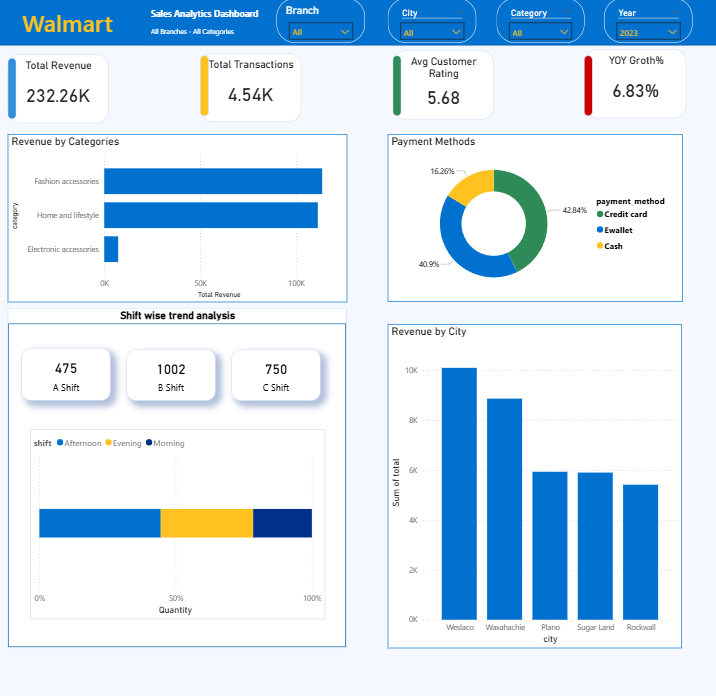

The page's visual inventory and layout, read from the dashboard file:
{"tool":"powerbi","page":{"name":"Page 1","canvas":[1150,1120],"ordinal":0},"visuals":[{"type":"shape","box":[0,0,1280.3,76.8],"z":0},{"type":"textbox","box":[32.9,9.6,238.8,57.6],"z":1000},{"type":"textbox","box":[237.4,9.6,229.2,54.9],"z":2000},{"type":"textbox","box":[237.4,37,238.8,35.7],"z":3000},{"type":"slicer","title":"Branch","fields":{"Values":["Query1.branch"]},"box":[443.8,0,141.9,71.7],"z":4000},{"type":"slicer","fields":{"Values":["Query1.category"]},"box":[795.8,0,140.8,71.8],"z":5000},{"type":"slicer","fields":{"Values":["Query1.city"]},"box":[621.5,0,141.9,71.7],"z":6000},{"type":"slicer","fields":{"Values":["Calendar.Date.Variation.Date Hierarchy.Year"]},"box":[968.8,0,141.9,71.7],"z":7000},{"type":"card","title":"Total Revenue","fields":{"Values":["Calendar.Total Revenue"]},"box":[13.8,89.6,161.2,110.3],"z":8000},{"type":"shape","box":[13.8,95.1,12.4,97.8],"z":9000},{"type":"card","title":"YOY Groth%","fields":{"Values":["Calendar.YOY Growth%"]},"box":[937.1,82.7,161.2,110.3],"z":10000},{"type":"card","title":"Avg Customer Rating","fields":{"Values":["Avg(Query1.rating)"]},"box":[629.3,85,161.2,110.3],"z":11000},{"type":"card","title":"Total Transactions","fields":{"Values":["Sum(Query1.quantity)"]},"box":[321.6,87.3,161.2,110.3],"z":12000},{"type":"shape","box":[631,91.5,8.5,97.2],"z":13000},{"type":"shape","box":[321.1,91.5,12.7,97.2],"z":14000},{"type":"clusteredBarChart","title":"Revenue by Categories","fields":{"Category":["Query1.category"],"Y":["Calendar.Total Revenue"]},"box":[13.8,217.7,543,268.7],"z":15000},{"type":"donutChart","title":"Payment Methods","fields":{"Category":["Query1.payment_method"],"Y":["Calendar.Total Revenue"]},"box":[621.1,218.3,471.8,267.6],"z":16000},{"type":"shape","box":[936.6,93,8.5,97.2],"z":17000},{"type":"shape","title":"Shift wise trend analysis","box":[14,496,542,544],"z":18000},{"type":"card","fields":{"Values":["Calendar.A Shift"]},"box":[36,560,142,84],"z":19000},{"type":"card","fields":{"Values":["Calendar.C Shift"]},"box":[372,562,142,82],"z":20000},{"type":"card","fields":{"Values":["Calendar.B Shift"]},"box":[204,562,142,82],"z":21000},{"type":"hundredPercentStackedBarChart","fields":{"Series":["Query1.shift"],"Y":["Sum(Query1.quantity)"]},"box":[50,690,472,304],"z":22000},{"type":"lineClusteredColumnComboChart","title":"Revenue by City","fields":{"Category":["Query1.city"],"Y":["Calendar.Total Revenue"]},"box":[622,522,470,518],"z":23000}]}

Visuals, with their boxes in screenshot pixels (x1, y1, x2, y2), scaled from the page's 1150x1120 canvas onto the 716x696 screenshot:
shape: {"x1": 0, "y1": 0, "x2": 715, "y2": 48}
textbox: {"x1": 20, "y1": 6, "x2": 169, "y2": 42}
textbox: {"x1": 148, "y1": 6, "x2": 291, "y2": 40}
textbox: {"x1": 148, "y1": 23, "x2": 296, "y2": 45}
"Branch" slicer: {"x1": 276, "y1": 0, "x2": 365, "y2": 45}
slicer - Query1.category: {"x1": 495, "y1": 0, "x2": 583, "y2": 45}
slicer - Query1.city: {"x1": 387, "y1": 0, "x2": 475, "y2": 45}
slicer - Calendar.Date.Variation.Date Hierarchy.Year: {"x1": 603, "y1": 0, "x2": 692, "y2": 45}
"Total Revenue" card: {"x1": 9, "y1": 56, "x2": 109, "y2": 124}
shape: {"x1": 9, "y1": 59, "x2": 16, "y2": 120}
"YOY Groth%" card: {"x1": 583, "y1": 51, "x2": 684, "y2": 120}
"Avg Customer Rating" card: {"x1": 392, "y1": 53, "x2": 492, "y2": 121}
"Total Transactions" card: {"x1": 200, "y1": 54, "x2": 301, "y2": 123}
shape: {"x1": 393, "y1": 57, "x2": 398, "y2": 117}
shape: {"x1": 200, "y1": 57, "x2": 208, "y2": 117}
"Revenue by Categories" clusteredBarChart: {"x1": 9, "y1": 135, "x2": 347, "y2": 302}
"Payment Methods" donutChart: {"x1": 387, "y1": 136, "x2": 680, "y2": 302}
shape: {"x1": 583, "y1": 58, "x2": 588, "y2": 118}
"Shift wise trend analysis" shape: {"x1": 9, "y1": 308, "x2": 346, "y2": 646}
card - Calendar.A Shift: {"x1": 22, "y1": 348, "x2": 111, "y2": 400}
card - Calendar.C Shift: {"x1": 232, "y1": 349, "x2": 320, "y2": 400}
card - Calendar.B Shift: {"x1": 127, "y1": 349, "x2": 215, "y2": 400}
hundredPercentStackedBarChart - Query1.shift x Sum(Query1.quantity): {"x1": 31, "y1": 429, "x2": 325, "y2": 618}
"Revenue by City" lineClusteredColumnComboChart: {"x1": 387, "y1": 324, "x2": 680, "y2": 646}
